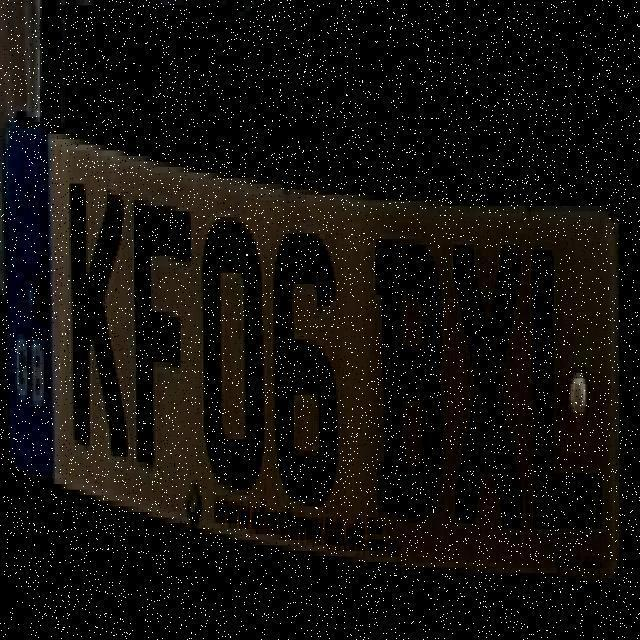LicensePlate: (0, 111, 627, 598)
